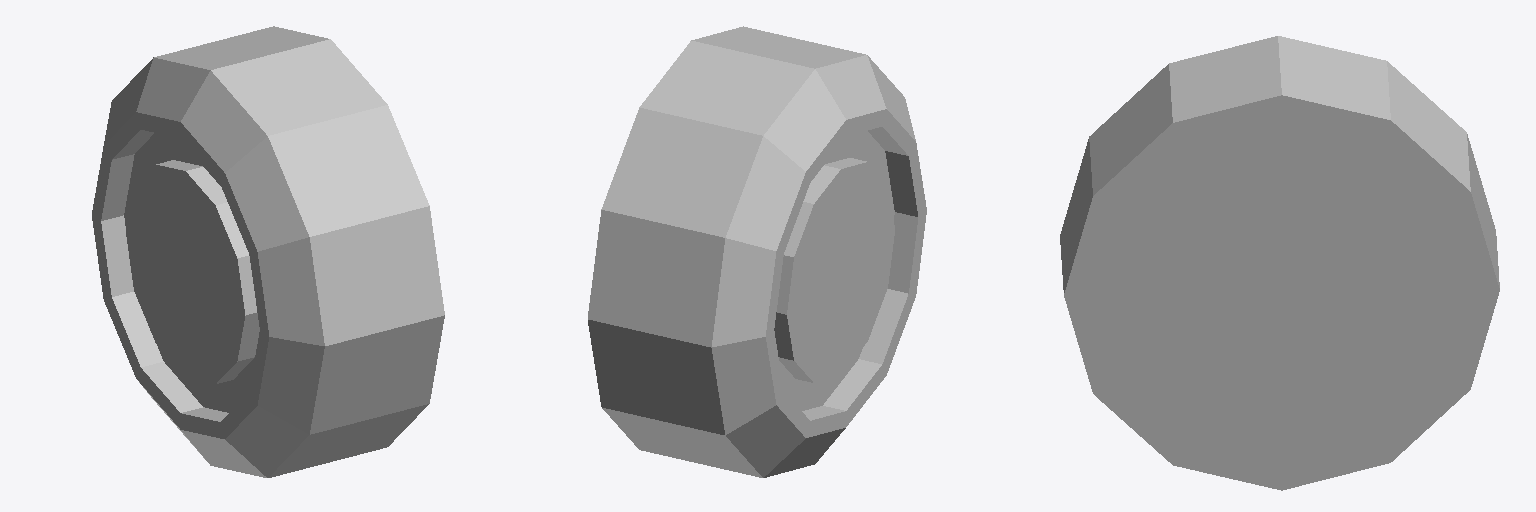
Rendered from posteriore_sinistra.obj.
The picture shows the model from 3 angles: view 1: azimuth 30°, elevation 25°; view 2: azimuth 150°, elevation 25°; view 3: azimuth 270°, elevation 25°; orthographic projection.
Parts seen in each view (by area): view 1: wheelbl_Cylinder.001; view 2: wheelbl_Cylinder.001; view 3: wheelbl_Cylinder.001.
Boxes of the visible parts, x1,y1,x2,y2 form: wheelbl_Cylinder.001: [92, 26, 444, 477]; wheelbl_Cylinder.001: [588, 26, 926, 477]; wheelbl_Cylinder.001: [1060, 36, 1499, 490].
Size of the model in its own units: 0.5094 by 1.19 by 1.2.